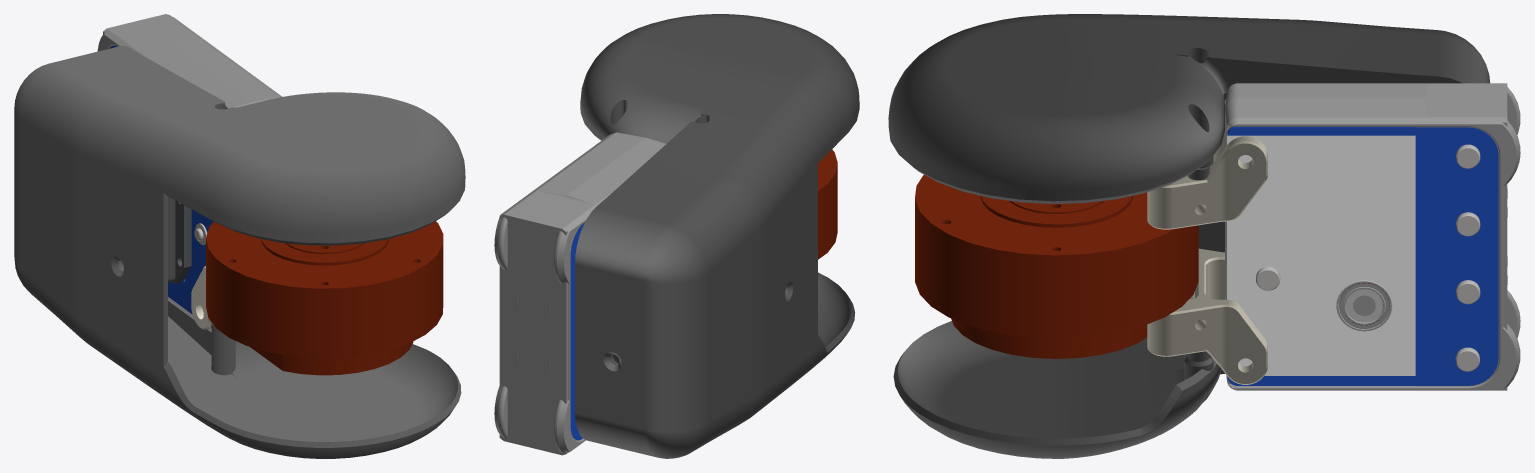
Rendered from left_wrist_roll_gripper.obj.
The picture shows the model from 3 angles, left to right: view 1: azimuth 30°, elevation 25°; view 2: azimuth 150°, elevation 25°; view 3: azimuth 270°, elevation 25°; orthographic projection. The views are drawn at different scales.
Visible parts, largest first — view 1: mesh219, mesh740, mesh769, mesh190, mesh743, mesh756, mesh207, mesh195, mesh741, mesh193, mesh175, mesh760 (+31 smaller); view 2: mesh769, mesh659, mesh743, mesh741, mesh763, mesh739, mesh169, mesh756, mesh761, mesh172, mesh195, mesh764 (+24 smaller); view 3: mesh587, mesh219, mesh608, mesh769, mesh740, mesh739, mesh190, mesh207, mesh741, mesh193, mesh191, mesh531 (+29 smaller).
Part boxes in pixels (<box>): mesh219: <box>206,238,443,357</box>; mesh740: <box>213,110,465,233</box>; mesh769: <box>60,48,405,151</box>; mesh190: <box>168,316,405,430</box>; mesh743: <box>81,97,242,205</box>; mesh756: <box>81,153,212,281</box>; mesh207: <box>206,221,443,288</box>; mesh195: <box>81,237,171,382</box>; mesh741: <box>243,112,418,170</box>; mesh193: <box>244,391,418,441</box>; mesh175: <box>20,193,70,311</box>; mesh760: <box>20,119,70,229</box>; mesh769: <box>597,38,800,223</box>; mesh659: <box>499,214,566,455</box>; mesh743: <box>721,77,843,221</box>; mesh741: <box>640,18,812,77</box>; mesh763: <box>575,264,644,355</box>; mesh739: <box>580,37,670,138</box>; mesh169: <box>575,338,644,429</box>; mesh756: <box>766,122,848,303</box>; mesh761: <box>644,274,708,357</box>; mesh172: <box>644,348,708,431</box>; mesh195: <box>766,252,822,386</box>; mesh764: <box>575,206,665,281</box>; mesh587: <box>1227,135,1415,375</box>; mesh219: <box>915,199,1198,338</box>; mesh608: <box>1227,127,1498,385</box>; mesh769: <box>1056,19,1437,114</box>; mesh740: <box>888,15,1056,189</box>; mesh739: <box>1056,75,1224,189</box>; mesh190: <box>1056,343,1184,438</box>; mesh207: <box>915,175,1172,255</box>; mesh741: <box>944,19,1056,114</box>; mesh193: <box>944,356,1056,438</box>; mesh191: <box>897,321,1020,423</box>; mesh531: <box>1238,98,1507,117</box>.
Size of the model in its own units: 0.099 by 0.1 by 0.169.
